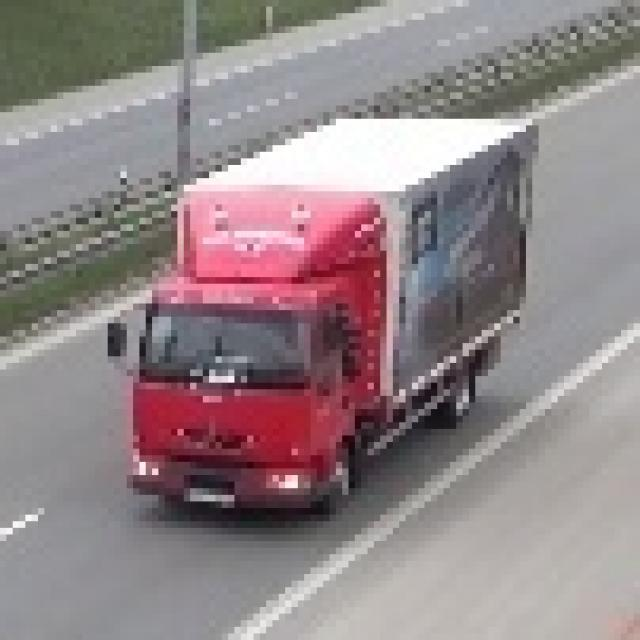truck: (108, 106, 532, 514)
